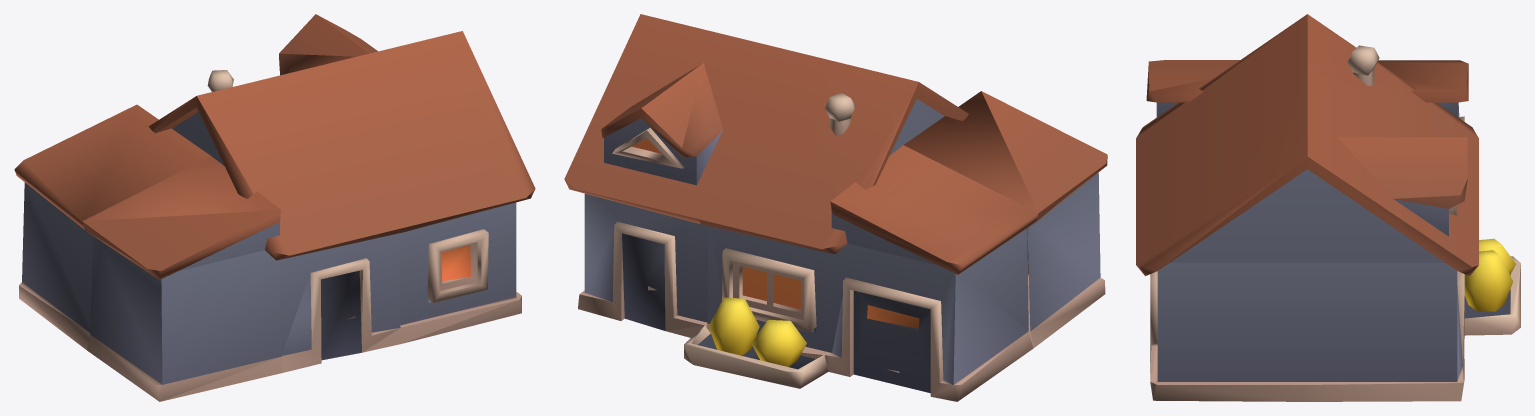
Rendered from casa_i.fbx.
3 views of the same model, side by side, from view 1: azimuth 30°, elevation 25°; view 2: azimuth 150°, elevation 25°; view 3: azimuth 270°, elevation 25° (orthographic). The views are drawn at different scales.
Parts seen in each view (by area): view 1: casa_i; view 2: casa_i; view 3: casa_i.
Boxes of the visible parts, x1,y1,x2,y2 form: casa_i: (14, 14, 535, 401); casa_i: (564, 14, 1107, 401); casa_i: (1136, 14, 1520, 401).
Bounding box in the file's own units: 1.29 × 0.7375 × 1.03.
